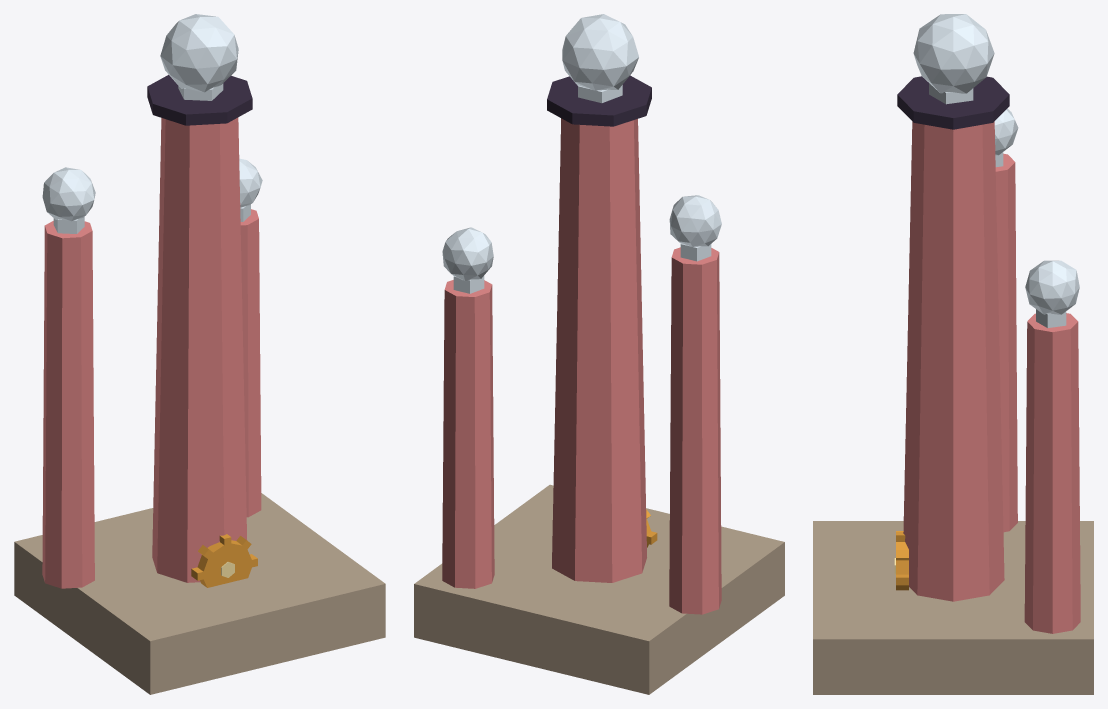
The model's file is factory-g2.glb.
The picture shows the model from 3 angles, left to right: view 1: azimuth 30°, elevation 25°; view 2: azimuth 150°, elevation 25°; view 3: azimuth 270°, elevation 25°; orthographic projection. The views are drawn at different scales.
Visible parts, largest first — view 1: factory-g2; view 2: factory-g2; view 3: factory-g2.
Part boxes in pixels (<box>): factory-g2: <box>14,14,385,694</box>; factory-g2: <box>414,14,784,694</box>; factory-g2: <box>813,14,1093,694</box>.
Size of the model in its own units: 1.19 by 2.68 by 1.1.
